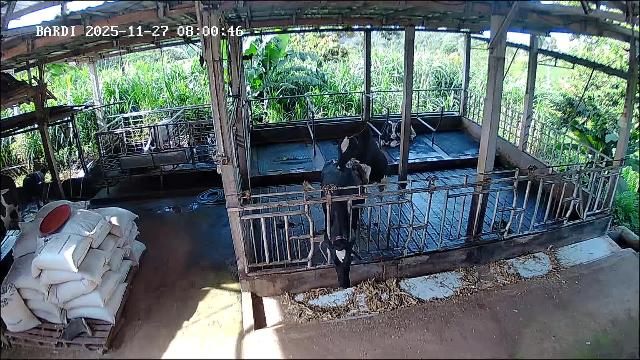mounting: (331, 129, 392, 229)
